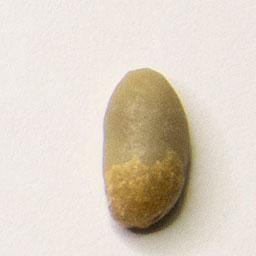longberry: (98, 63, 196, 233)
